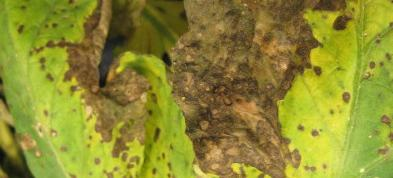Tomato Septoria leaf spot: (175, 0, 393, 178), (0, 0, 142, 178)
